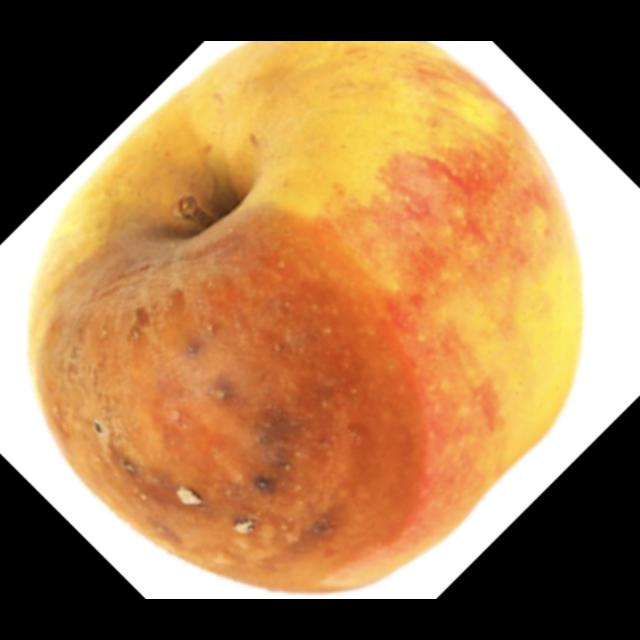Apel Tidak Segar: (22, 42, 588, 600)
